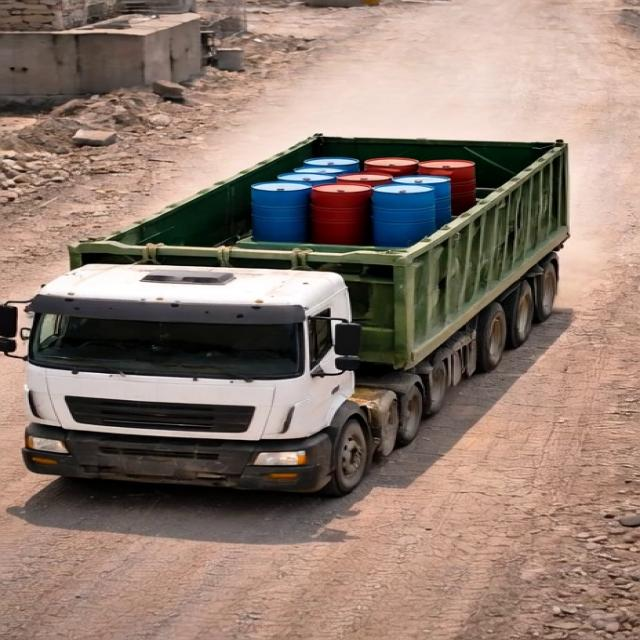trailer: (70, 130, 564, 254)
truck: (0, 110, 576, 498)
